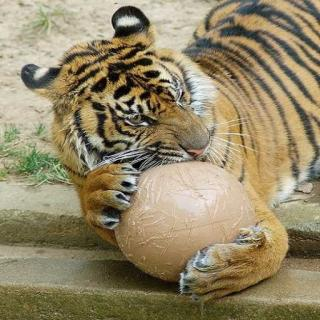Tiger: (12, 0, 320, 294)
